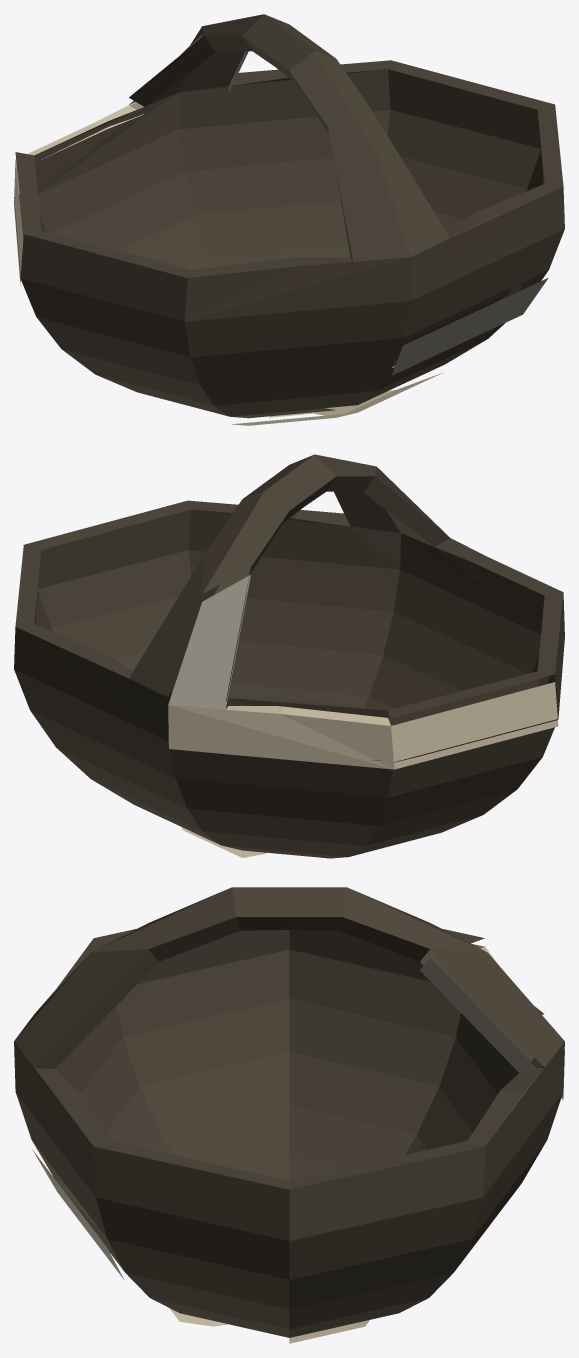
Rendered from basket.fbx.
3 views of the same model, one above another, from view 1: azimuth 30°, elevation 25°; view 2: azimuth 150°, elevation 25°; view 3: azimuth 270°, elevation 25° (orthographic). The views are drawn at different scales.
Parts seen in each view (by area): view 1: Cube; view 2: Cube; view 3: Cube.
Boxes of the visible parts, x1,y1,x2,y2 form: Cube: (14,14,564,425); Cube: (14,454,564,858); Cube: (14,887,564,1343).
Bounding box in the file's own units: 196 × 128 × 153.
